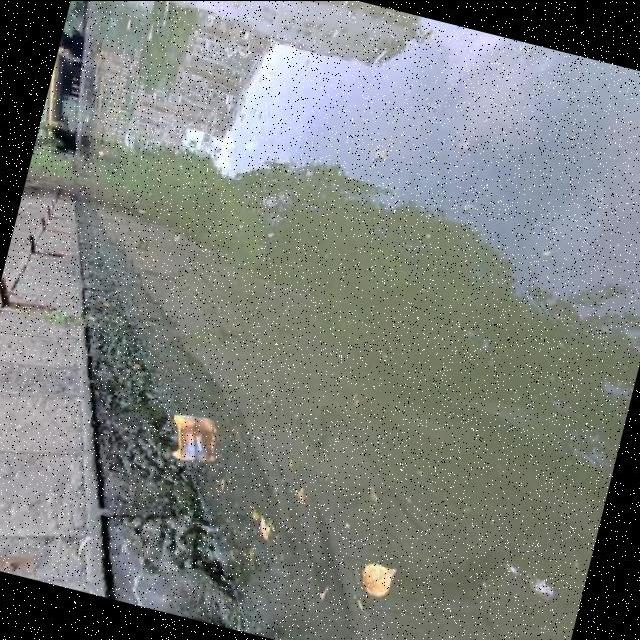Waste: (170, 406, 206, 464)
